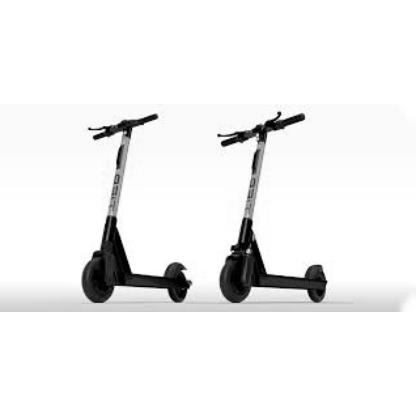bike: (79, 110, 330, 305)
